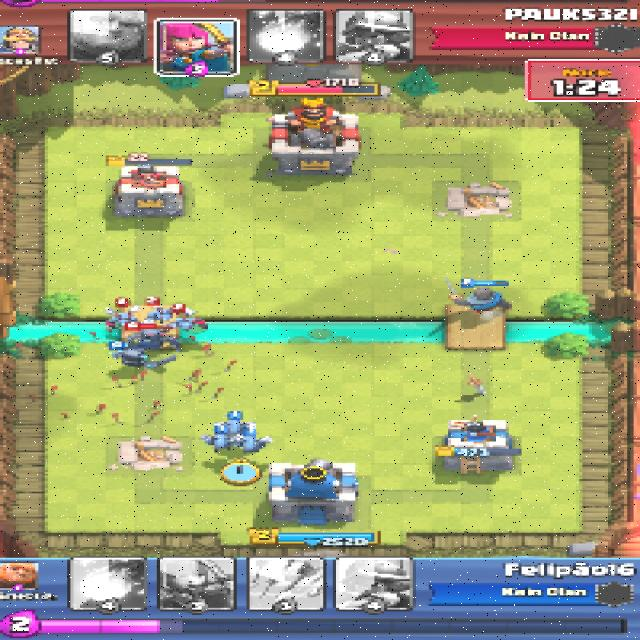Enemy-Arrow: (45, 318, 240, 425)
Enemy-MiniPEKKA: (136, 331, 171, 347)
Enemy-Minion: (107, 310, 138, 328), (175, 313, 204, 331), (148, 308, 176, 322)
Player-Knight: (455, 285, 509, 314), (120, 348, 148, 369)
Player-Minion: (221, 421, 246, 435), (239, 437, 266, 449), (208, 438, 232, 451)
